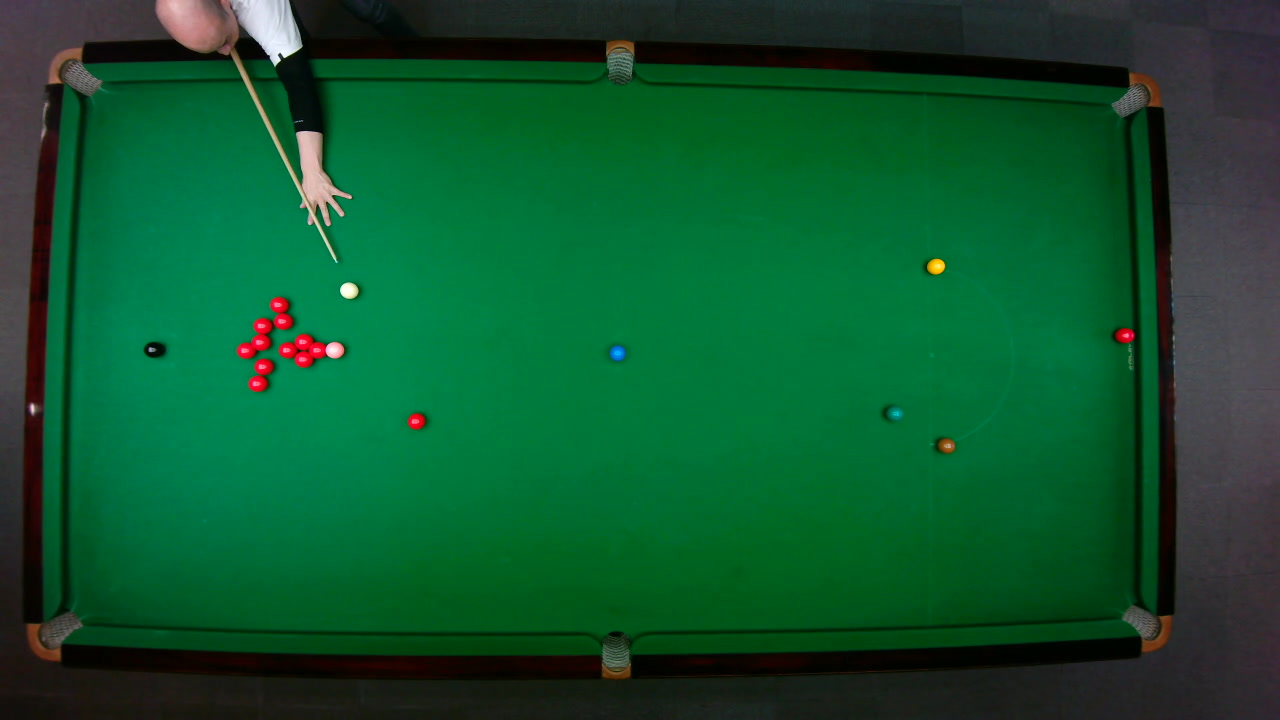bag: (25, 609, 83, 661), (45, 46, 102, 96), (1119, 603, 1171, 652), (1108, 71, 1162, 118), (600, 629, 630, 680), (605, 38, 633, 85)
black: (142, 340, 164, 358)
blue: (607, 343, 626, 361)
brown: (936, 436, 956, 453)
cue: (227, 44, 341, 264)
green: (883, 404, 904, 421)
pink: (323, 340, 345, 359)
red: (252, 357, 274, 375), (246, 374, 268, 392), (251, 316, 273, 334), (234, 340, 256, 358), (268, 295, 289, 313), (1113, 326, 1135, 343), (277, 340, 297, 358), (293, 350, 314, 367), (272, 312, 293, 329), (293, 332, 314, 349), (249, 333, 270, 350), (307, 340, 326, 358), (406, 412, 425, 430)
white: (338, 280, 359, 300)
yellow: (925, 256, 946, 274)
zone: (927, 265, 1013, 445)
